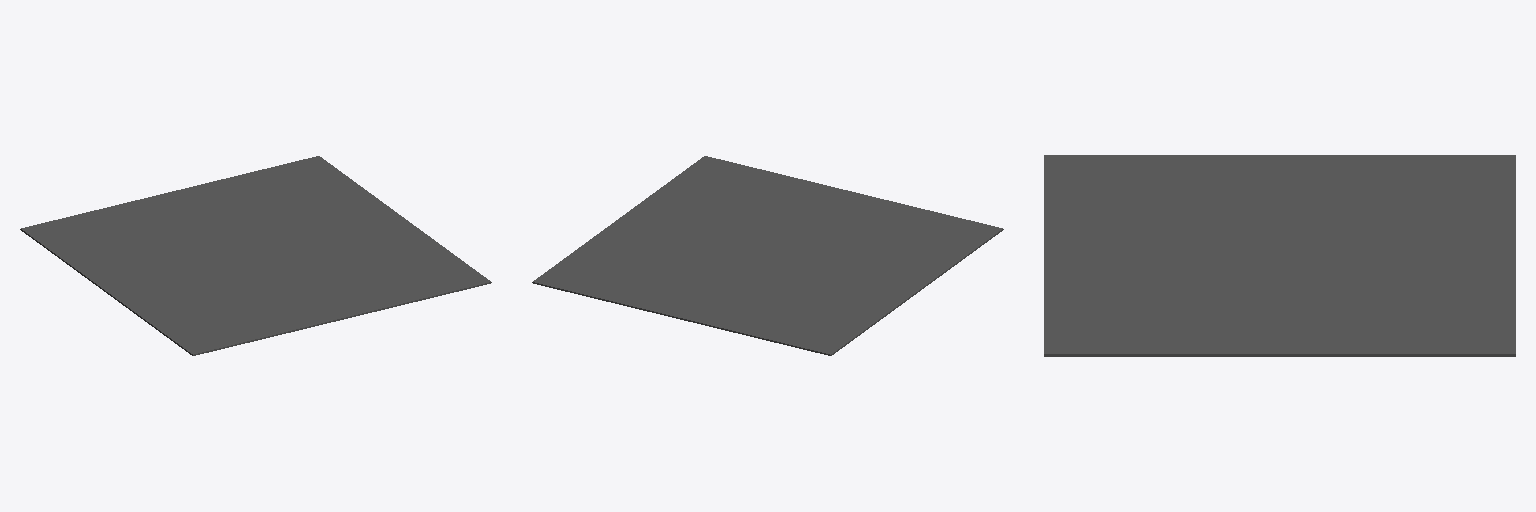
URDF robot description (plane):
<?xml version="1.0"?>
<robot name="plane">
  <link name="plane_link">
    <contact>
      <lateral_friction value="1.0"/>
    </contact>
    <inertial>
      <origin rpy="0 0 0" xyz="0 0 0"/>
      <mass value=".0"/>
      <inertia ixx="0" ixy="0" ixz="0" iyy="0" iyz="0" izz="0"/>
    </inertial>
    <visual>
      <origin rpy="0 0 0" xyz="0.0 0.0 0.0"/>
      <geometry>
        <box size="20 20 0.1"/>
      </geometry>
      <material name="blockmat">
        <color rgba="0.4 0.4 0.4 1"/>
      </material>
    </visual>
    <collision>
      <origin rpy="0 0 0" xyz="0.0 0.0 0.0"/>
      <geometry>
        <box size="20 20 0.1"/>
      </geometry>
    </collision>
  </link>
</robot>

--- Facts derived from the render (not from the file) ---
The picture shows the robot from 3 angles, left to right: view 1: azimuth 30°, elevation 25°; view 2: azimuth 150°, elevation 25°; view 3: azimuth 270°, elevation 25°; orthographic projection.
Robot: plane — 1 links, 0 joints (none); root link plane_link; default pose: all joints at 0.
Links seen in each view (by area): view 1: plane_link; view 2: plane_link; view 3: plane_link.
Boxes of the visible links, <box> form: plane_link: <box>20,156,491,355</box>; plane_link: <box>532,156,1003,355</box>; plane_link: <box>1044,155,1515,356</box>.
Bounding box of the posed robot: 20 × 20 × 0.1 m (x, y, z).
Geometry: primitives only (box / cylinder / sphere), no mesh files.